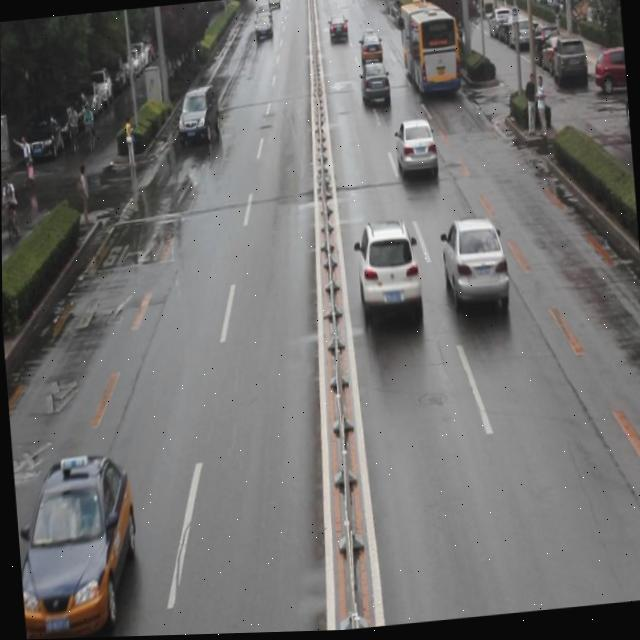car: (12, 450, 139, 640), (352, 219, 424, 334), (438, 217, 509, 324), (392, 118, 436, 186), (359, 63, 388, 111)
truck: (176, 88, 219, 145)
